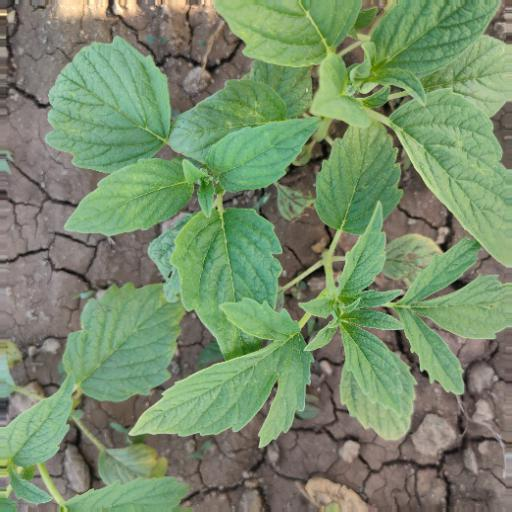crop: (36, 8, 512, 484)
